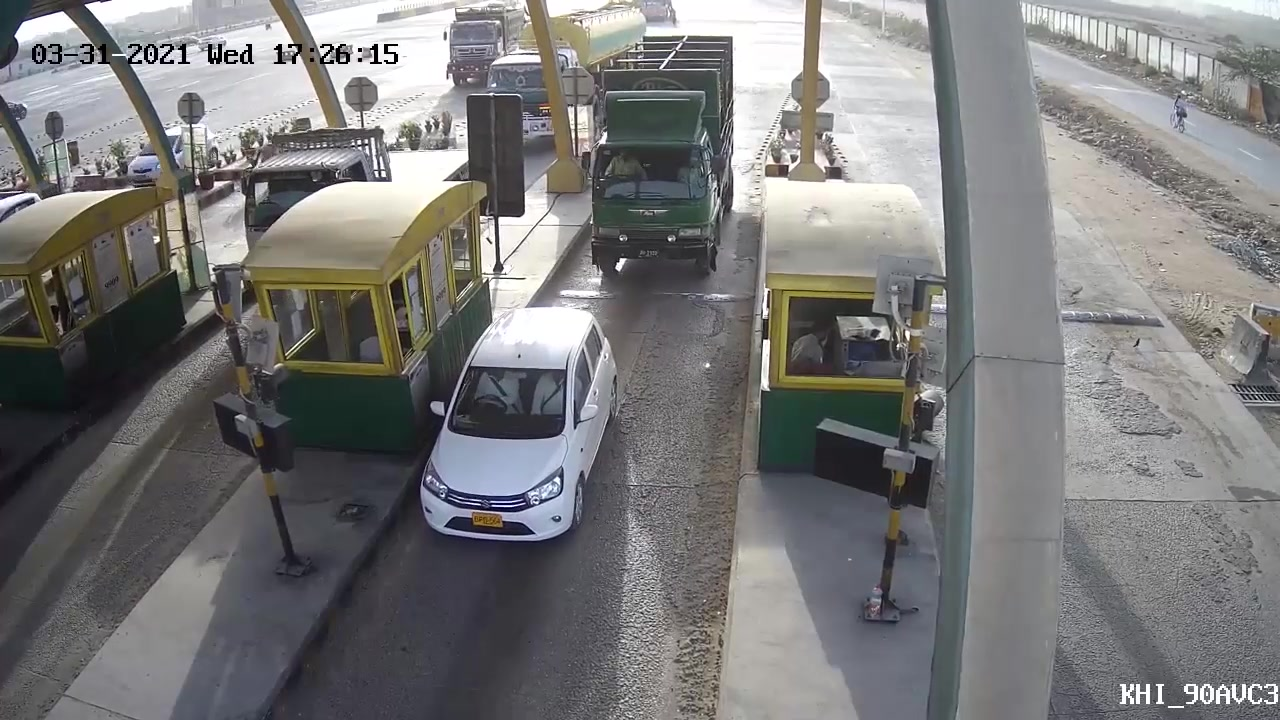F1: (403, 303, 625, 544)
F5: (581, 16, 741, 281)
